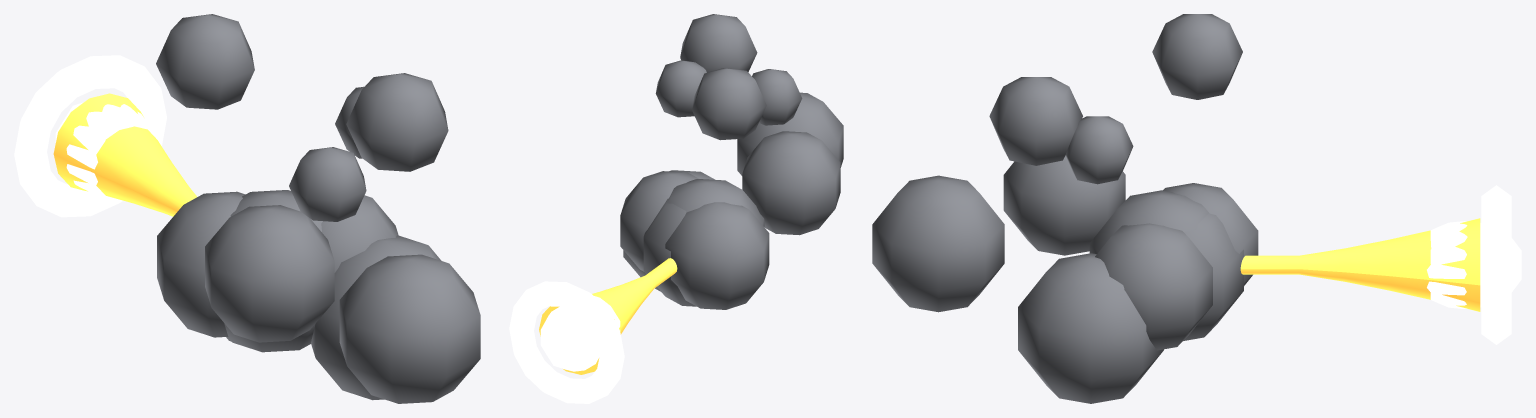
Rendered from vfx-mesh-library-suppressed-puff-6312b3c1__21912.glb.
3 views of the same model, side by side, from view 1: azimuth 30°, elevation 25°; view 2: azimuth 150°, elevation 25°; view 3: azimuth 270°, elevation 25° (orthographic). The views are drawn at different scales.
Visible parts, largest first — view 1: suppressed-puff; view 2: suppressed-puff; view 3: suppressed-puff.
Boxes of the visible parts, x1=… form: suppressed-puff: x1=14, y1=14, x2=480, y2=403; suppressed-puff: x1=509, y1=14, x2=843, y2=403; suppressed-puff: x1=872, y1=14, x2=1521, y2=403.
Bounding box in the file's own units: 0.3374 × 0.4562 × 0.8106.
